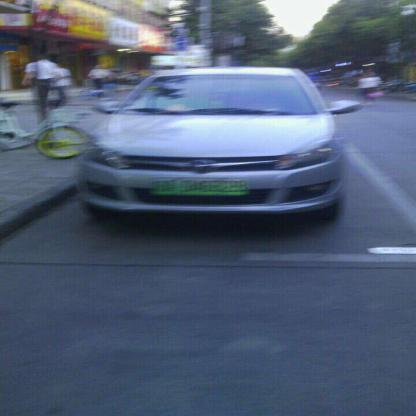lp: (153, 178, 248, 194)
